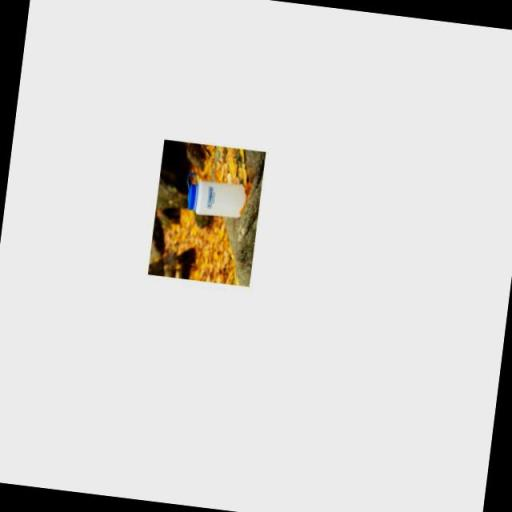bottle: (177, 166, 252, 222)
